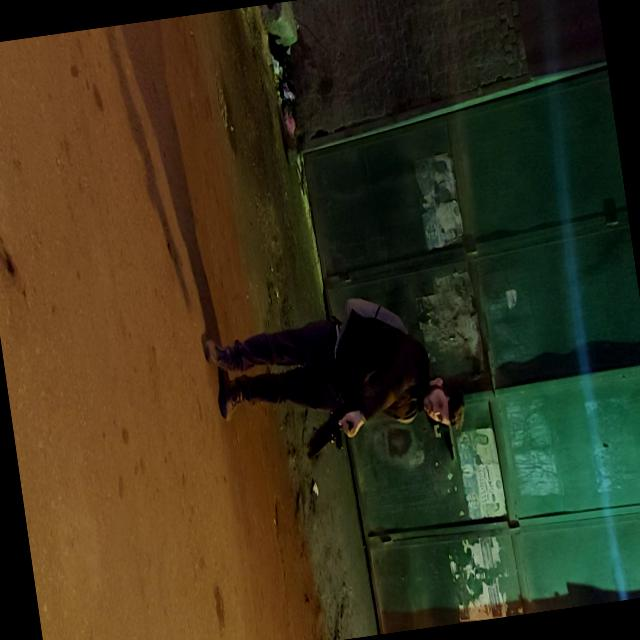long weapon: (297, 373, 383, 474)
